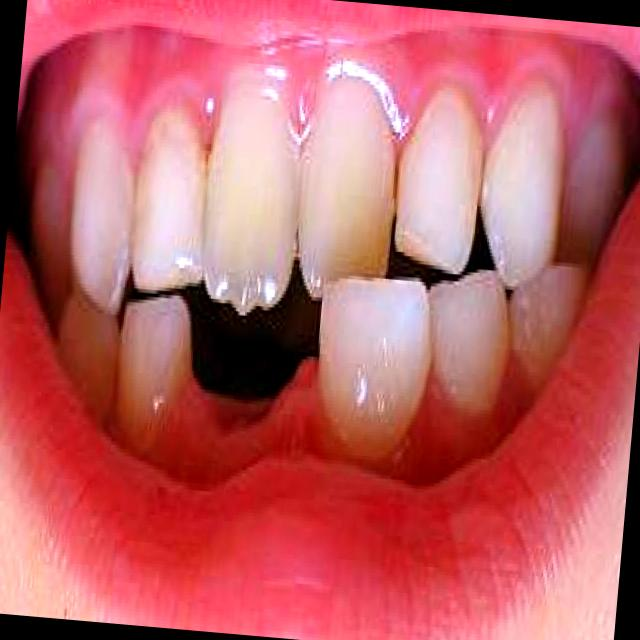hypodontia: (171, 288, 332, 436)
